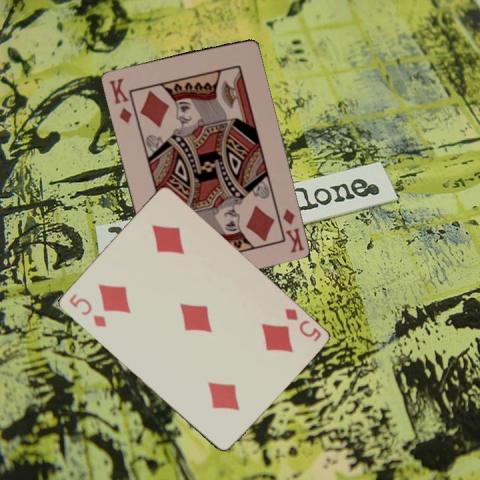5d: (66, 291, 107, 329), (281, 306, 322, 344)
Kd: (106, 75, 133, 126), (279, 205, 305, 255)
